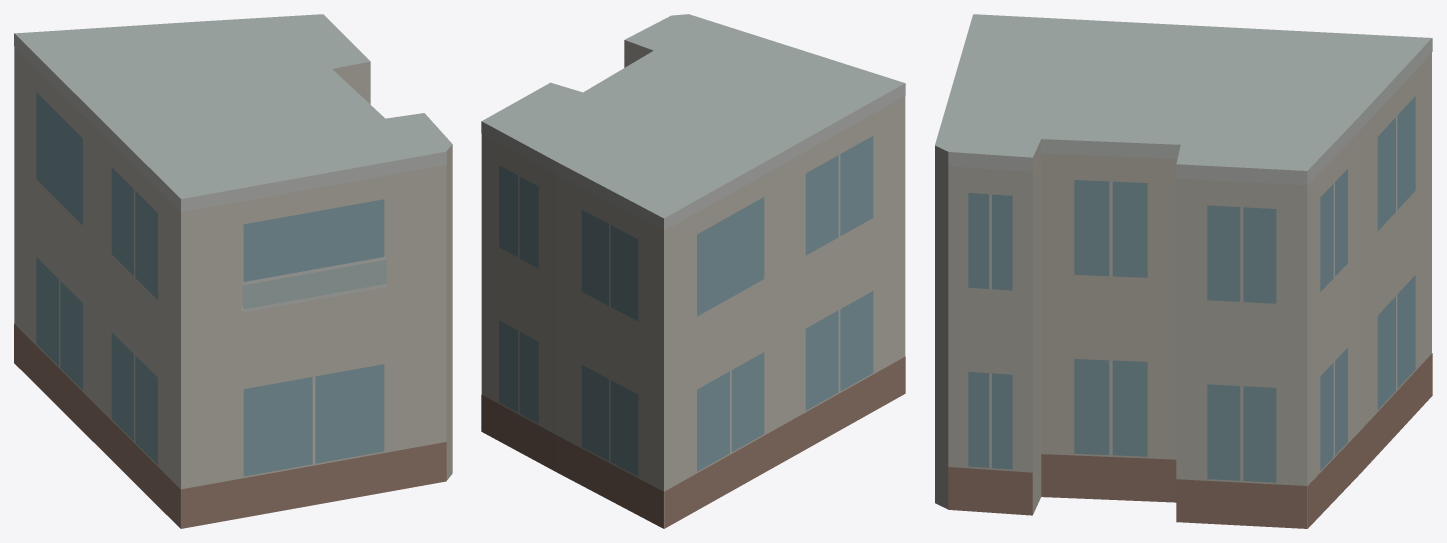
File: survey-upis-33026843.glb
The picture shows the model from 3 angles, left to right: view 1: azimuth 30°, elevation 25°; view 2: azimuth 150°, elevation 25°; view 3: azimuth 270°, elevation 25°; orthographic projection. The views are drawn at different scales.
Visible parts, largest first — view 1: survey-upis-33026843.tmp; view 2: survey-upis-33026843.tmp; view 3: survey-upis-33026843.tmp.
Boxes of the visible parts, left/top/right/bottom form: survey-upis-33026843.tmp: left=14, top=14, right=452, bottom=528; survey-upis-33026843.tmp: left=481, top=14, right=905, bottom=528; survey-upis-33026843.tmp: left=935, top=14, right=1432, bottom=528.
Bounding box in the file's own units: 5.75 × 6.1 × 7.7.
